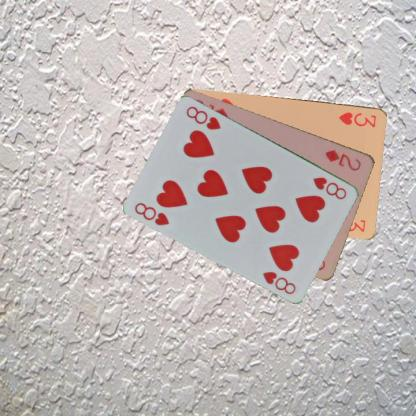2d: (322, 146, 363, 172)
3h: (336, 109, 378, 129)
8h: (132, 199, 171, 227), (310, 174, 348, 201)
